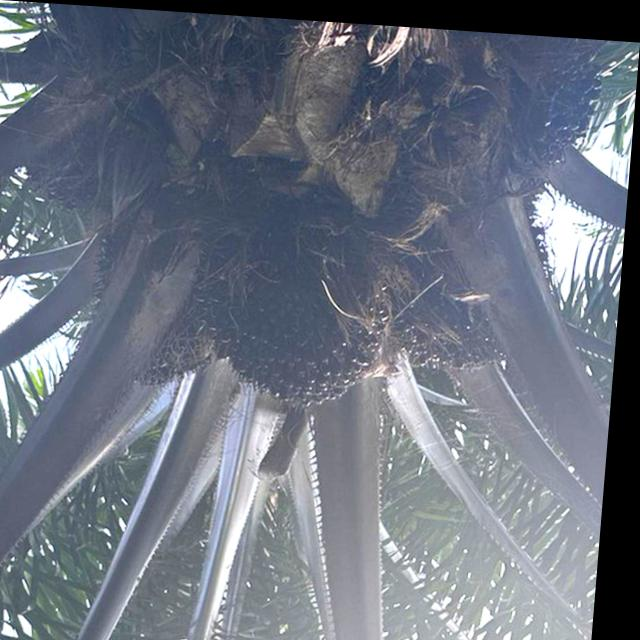almost: (209, 237, 399, 413), (400, 218, 552, 381), (89, 223, 231, 394), (19, 116, 171, 223)
